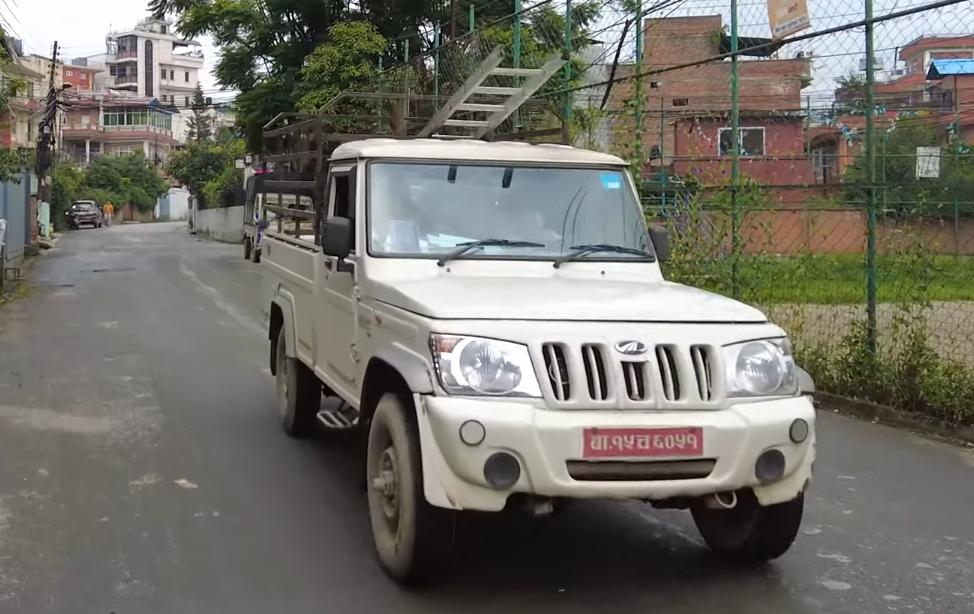car: (57, 189, 122, 238)
transport_vehicle: (243, 75, 818, 593)
